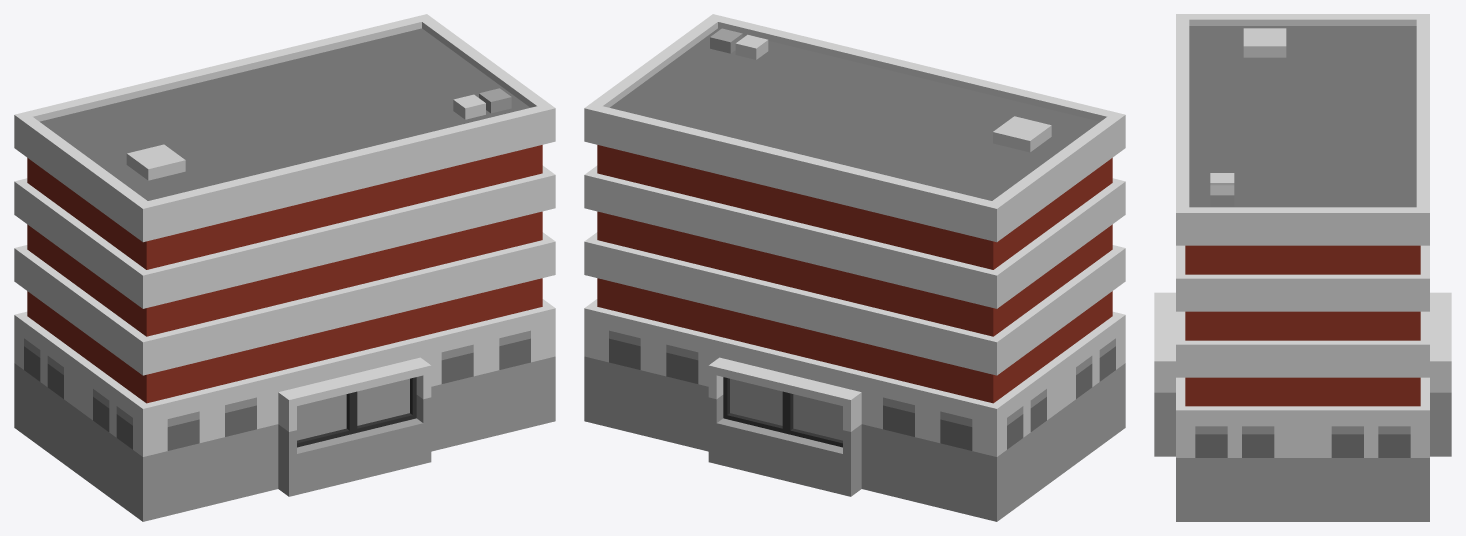
Rendered from house_04.glb.
The picture shows the model from 3 angles, left to right: view 1: azimuth 30°, elevation 25°; view 2: azimuth 150°, elevation 25°; view 3: azimuth 270°, elevation 25°; orthographic projection.
Visible parts, largest first — view 1: house_04; view 2: house_04; view 3: house_04.
Boxes of the visible parts, x1,y1,x2,y2 form: house_04: (14, 14, 555, 521); house_04: (584, 14, 1125, 521); house_04: (1154, 14, 1451, 521).
Bounding box in the file's own units: 2.92 × 2.15 × 1.84.
